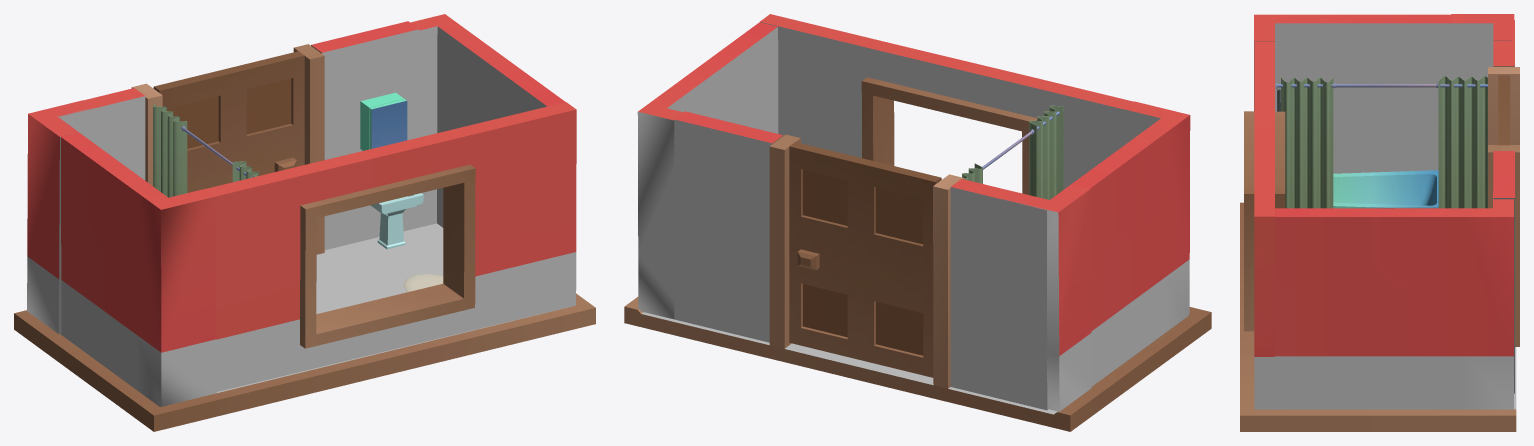
The model's file is BAÑO.fbx.
3 views of the same model, side by side, from view 1: azimuth 30°, elevation 25°; view 2: azimuth 150°, elevation 25°; view 3: azimuth 270°, elevation 25° (orthographic). The views are drawn at different scales.
Visible parts, largest first — view 1: paret_ventana7, paret_estrecha8, suelo4, paret_puerta44, puerta18, paret_estrecha7, paret_esquina_76, cortina1, cajon1, pica1; view 2: paret_puerta44, puerta18, paret_ventana7, paret_estrecha8, paret_estrecha7, suelo4, paret_esquina_76, cortina1; view 3: paret_estrecha7, paret_estrecha8, cortina1, paret_ventana7, suelo4, paret_puerta44, bañera1, paret_esquina_76, puerta18.
Boxes of the visible parts, x1,y1,x2,y2 form: paret_ventana7: (206, 102, 576, 391); paret_estrecha8: (57, 117, 216, 406); suelo4: (14, 223, 595, 431); paret_puerta44: (58, 21, 419, 254); puerta18: (153, 51, 304, 192); paret_estrecha7: (400, 14, 565, 231); paret_esquina_76: (27, 100, 93, 334); cortina1: (153, 104, 258, 197); cajon1: (360, 92, 407, 150); pica1: (371, 193, 423, 249); paret_puerta44: (674, 111, 1047, 410); puerta18: (789, 142, 941, 377); paret_ventana7: (760, 14, 1133, 194); paret_estrecha8: (1050, 101, 1190, 386); paret_estrecha7: (637, 22, 778, 319); suelo4: (624, 297, 1211, 431); paret_esquina_76: (1002, 184, 1091, 411); cortina1: (962, 105, 1064, 199); paret_estrecha7: (1274, 190, 1513, 409); paret_estrecha8: (1254, 14, 1493, 173); cortina1: (1276, 76, 1487, 208); paret_ventana7: (1244, 41, 1285, 409); suelo4: (1240, 202, 1516, 431); paret_puerta44: (1488, 20, 1519, 393); bañera1: (1277, 89, 1438, 208); paret_esquina_76: (1451, 14, 1514, 40); puerta18: (1498, 75, 1510, 145).
Bounding box in the file's own units: 791 × 365 × 439.
